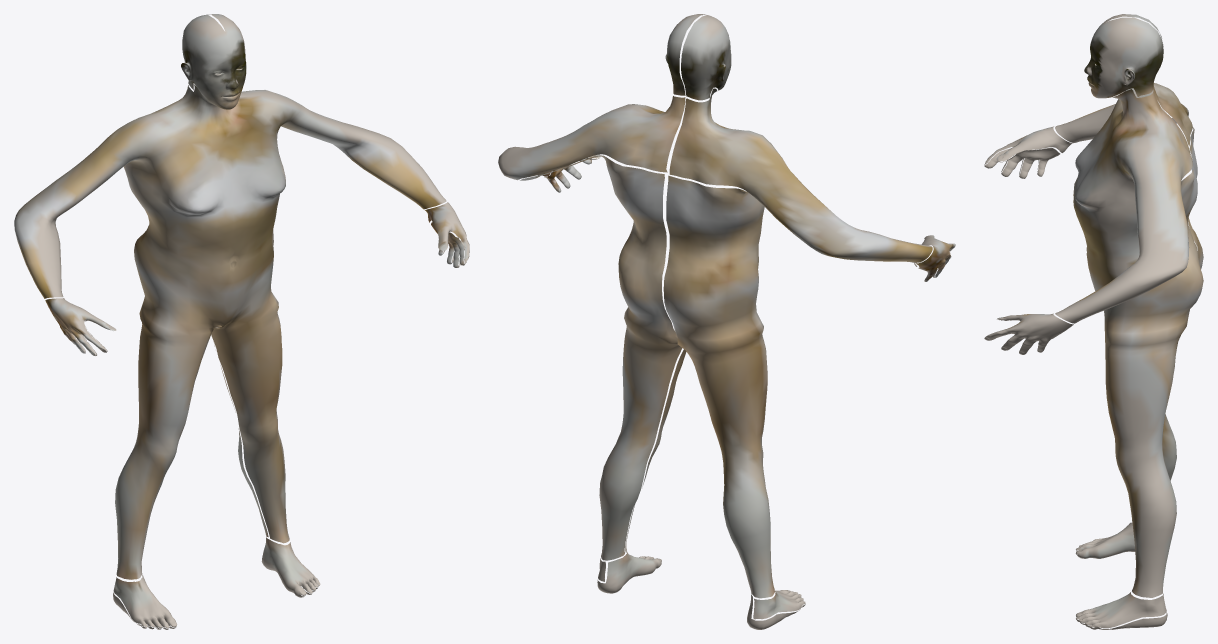
Rendered from body_mesh.glb.
The picture shows the model from 3 angles, left to right: view 1: azimuth 30°, elevation 25°; view 2: azimuth 150°, elevation 25°; view 3: azimuth 270°, elevation 25°; orthographic projection.
Visible parts, largest first — view 1: base_male.obj; view 2: base_male.obj; view 3: base_male.obj.
Part boxes in pixels (left/top/right/bottom): base_male.obj: left=14, top=14, right=469, bottom=629; base_male.obj: left=498, top=14, right=955, bottom=629; base_male.obj: left=984, top=14, right=1203, bottom=629.
Bounding box in the file's own units: 1.27 × 1.75 × 0.6067.
